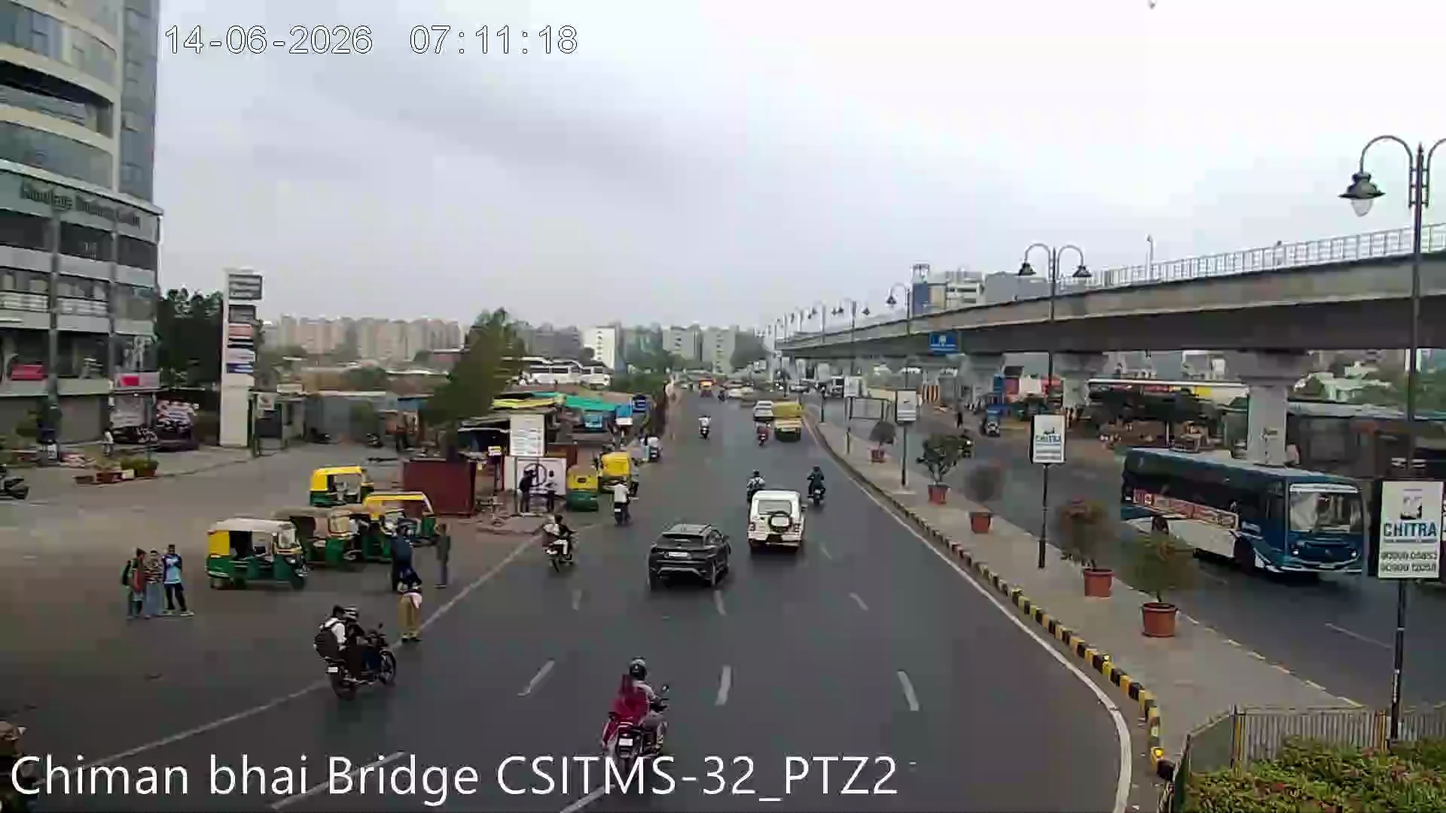auto_rickshaw: (203, 509, 309, 589), (281, 502, 361, 567), (354, 485, 439, 546), (746, 485, 806, 550), (307, 458, 371, 506), (597, 449, 639, 487), (772, 399, 805, 440), (566, 469, 601, 507)
bus: (1103, 449, 1372, 571)
car: (645, 518, 732, 589)
pedestrian: (118, 540, 152, 626), (396, 575, 429, 647), (160, 537, 189, 618)
two_wheeler: (600, 654, 676, 758), (311, 601, 397, 682), (316, 618, 400, 699), (309, 600, 379, 661), (540, 513, 579, 575), (1, 462, 31, 501), (806, 463, 828, 509), (610, 486, 633, 529), (644, 431, 665, 465), (695, 408, 714, 443)
